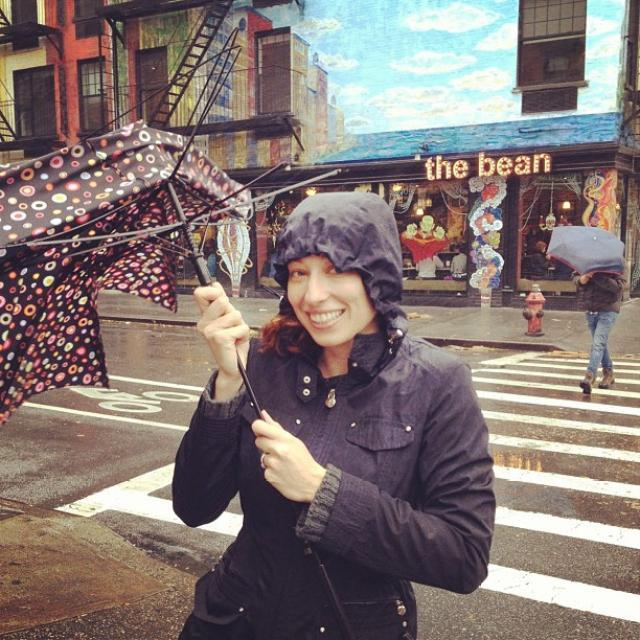fire_hydrant: (522, 283, 545, 336)
